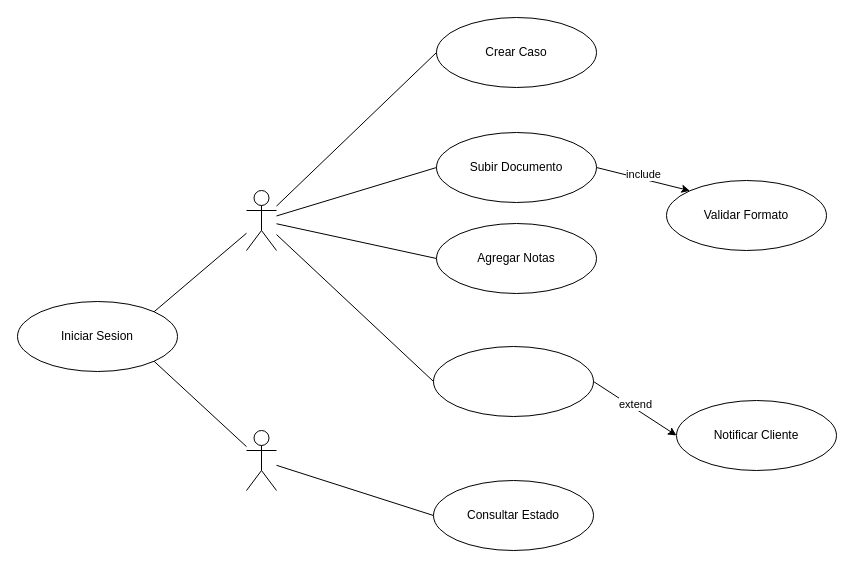
This 854x568 diagram has some shape labels left out. Each missing label, with the centre of its shape:
abogado: (x=261, y=220)
cliente: (x=261, y=460)
Programar Audiencia: (x=513, y=381)
